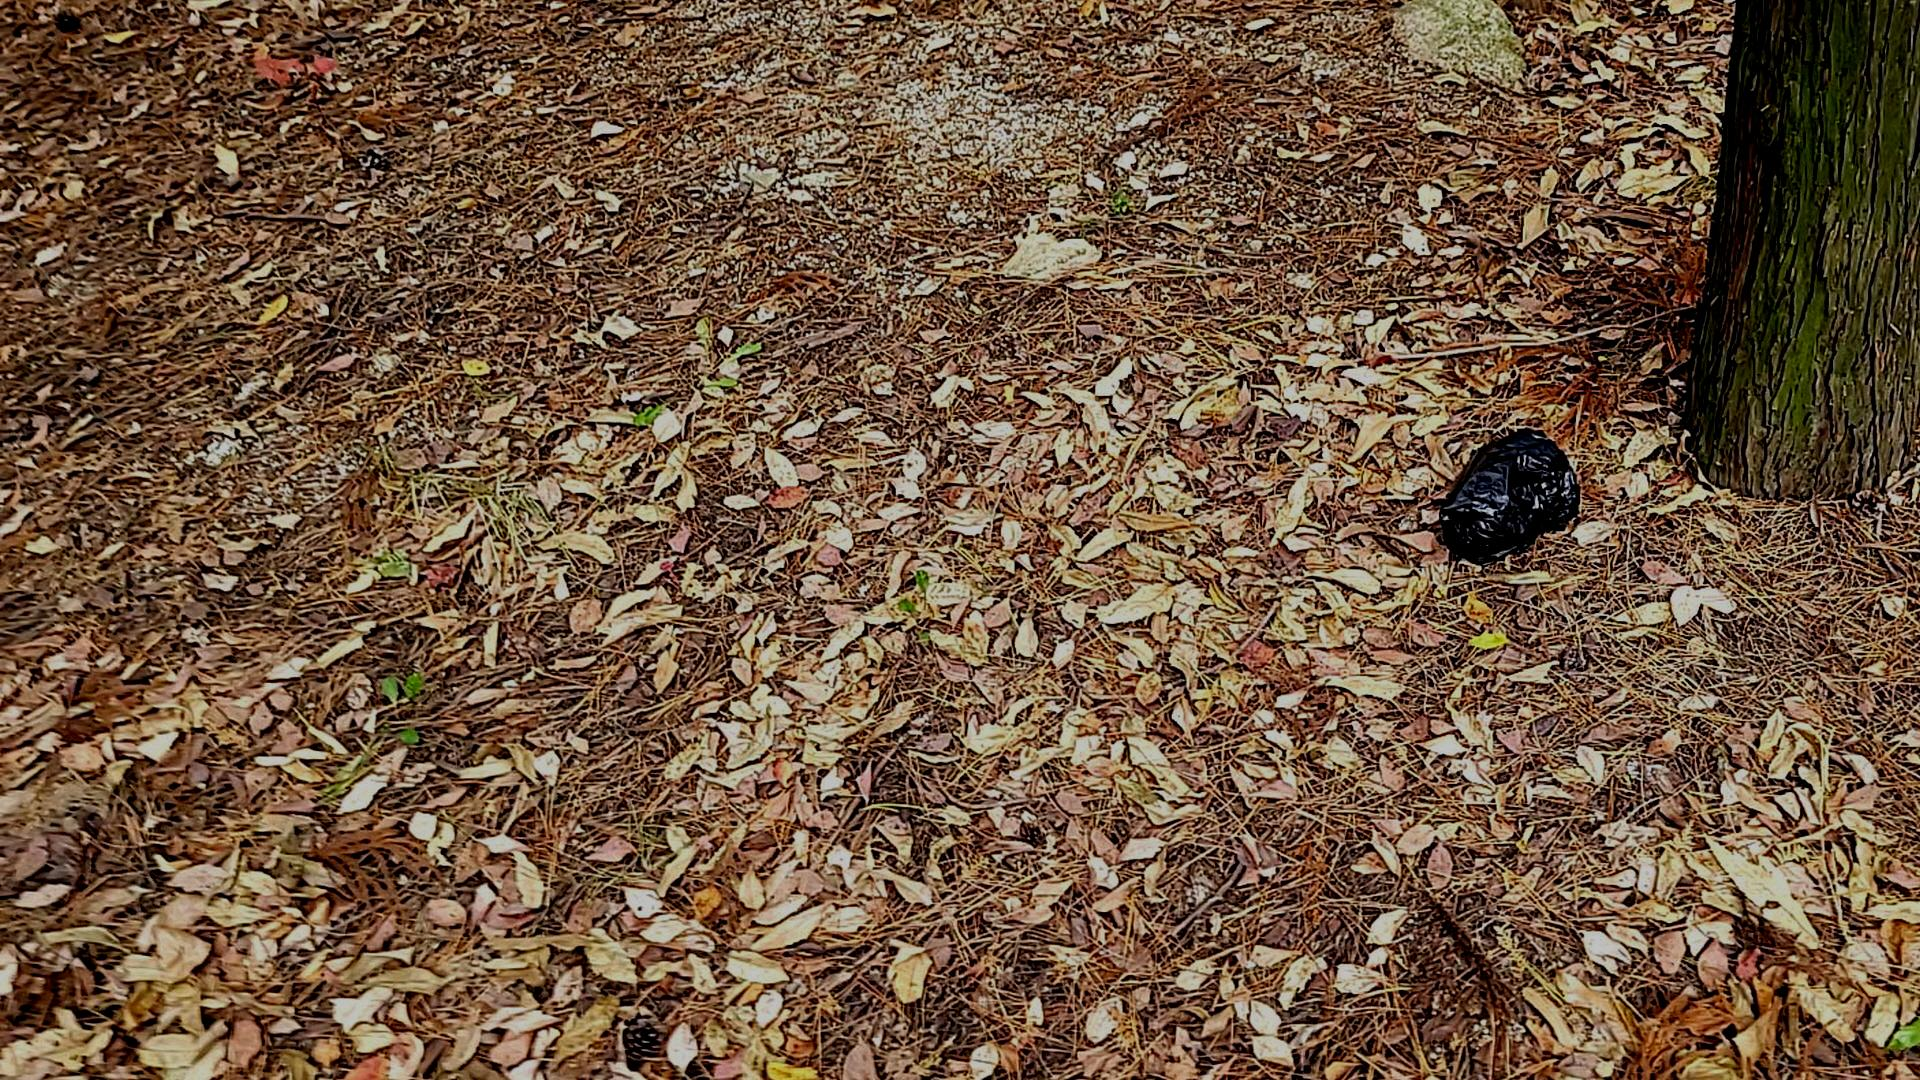black_bag: (1427, 423, 1582, 558)
